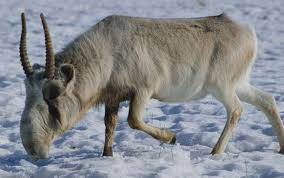saiga: (18, 10, 284, 162)
